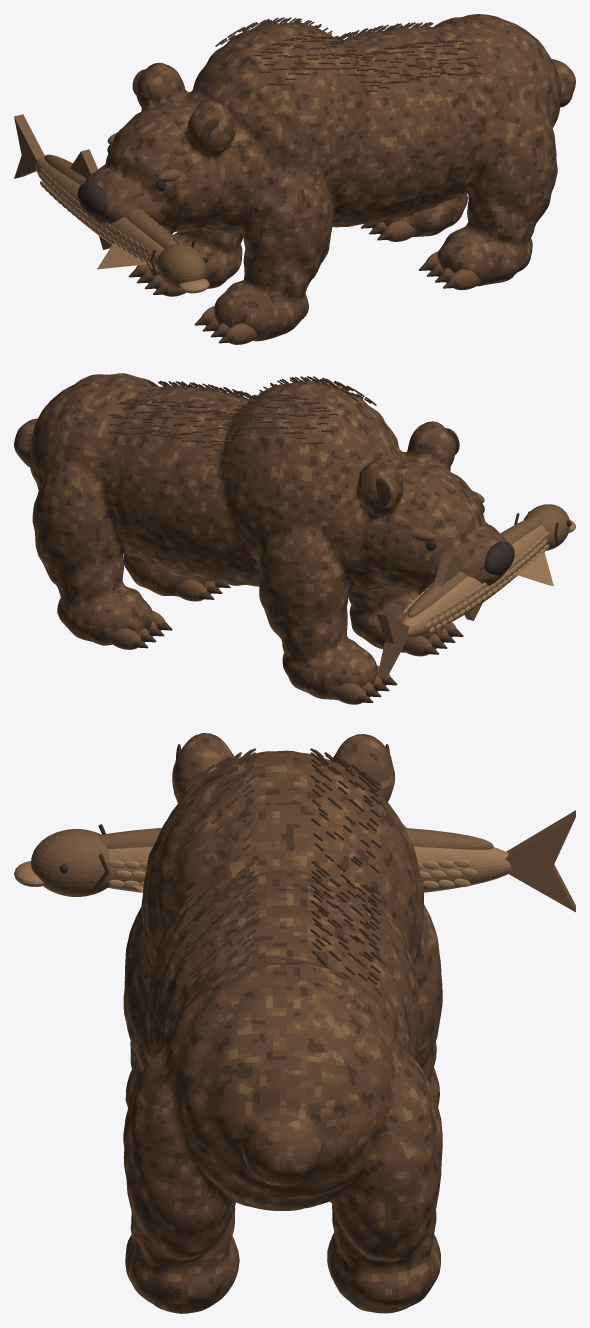
File: hokkaido_bear_official_harness.glb
The picture shows the model from 3 angles, top to bottom: view 1: azimuth 30°, elevation 25°; view 2: azimuth 150°, elevation 25°; view 3: azimuth 270°, elevation 25°; orthographic projection. The views are drawn at different scales.
Parts seen in each view (by area): view 1: Kuma_Handcarved_OnePiece, Salmon_Whole_Tapered_Body, Salmon_Head, Salmon_Dark_Dorsal, Salmon_Tail_Fork, Bear_Black_Carved_Nose, Salmon_Pectoral_Fin-1, Salmon_Dorsal_Fin, WoodenToe_0_1_0, WoodenToe_1_-1_0, WoodenToe_0_-1_0; view 2: Kuma_Handcarved_OnePiece, Salmon_Whole_Tapered_Body, Salmon_Dark_Dorsal, Salmon_Tail_Fork, Salmon_Head, Bear_Black_Carved_Nose, Salmon_Pectoral_Fin-1, Salmon_Dorsal_Fin, WoodenToe_1_1_3, WoodenToe_0_-1_3, WoodenToe_0_1_3, WoodenToe_1_-1_3; view 3: Kuma_Handcarved_OnePiece, Salmon_Head, Salmon_Whole_Tapered_Body, Salmon_Tail_Fork, Salmon_Dark_Dorsal.
Boxes of the visible parts, x1,y1,x2,y2 form: Kuma_Handcarved_OnePiece: [83, 14, 575, 341]; Salmon_Whole_Tapered_Body: [35, 157, 164, 271]; Salmon_Head: [157, 244, 206, 290]; Salmon_Dark_Dorsal: [44, 154, 177, 248]; Salmon_Tail_Fork: [14, 114, 44, 178]; Bear_Black_Carved_Nose: [77, 182, 106, 216]; Salmon_Pectoral_Fin-1: [97, 243, 146, 269]; Salmon_Dorsal_Fin: [70, 149, 98, 178]; WoodenToe_0_1_0: [384, 221, 416, 241]; WoodenToe_1_-1_0: [226, 323, 257, 344]; WoodenToe_0_-1_0: [450, 269, 480, 290]; Kuma_Handcarved_OnePiece: [14, 373, 507, 700]; Salmon_Whole_Tapered_Body: [401, 524, 547, 638]; Salmon_Dark_Dorsal: [407, 515, 541, 617]; Salmon_Tail_Fork: [377, 614, 409, 678]; Salmon_Head: [523, 504, 569, 550]; Bear_Black_Carved_Nose: [484, 541, 514, 575]; Salmon_Pectoral_Fin-1: [517, 551, 553, 586]; Salmon_Dorsal_Fin: [433, 551, 462, 586]; WoodenToe_1_1_3: [333, 683, 365, 704]; WoodenToe_0_-1_3: [174, 579, 207, 601]; WoodenToe_0_1_3: [110, 628, 140, 649]; WoodenToe_1_-1_3: [402, 636, 431, 656]; Kuma_Handcarved_OnePiece: [123, 733, 442, 1313]; Salmon_Head: [31, 829, 110, 896]; Salmon_Whole_Tapered_Body: [107, 846, 511, 892]; Salmon_Tail_Fork: [505, 810, 575, 912]; Salmon_Dark_Dorsal: [99, 828, 493, 849].
Size of the model in its own units: 3.81 by 1.94 by 2.4.
